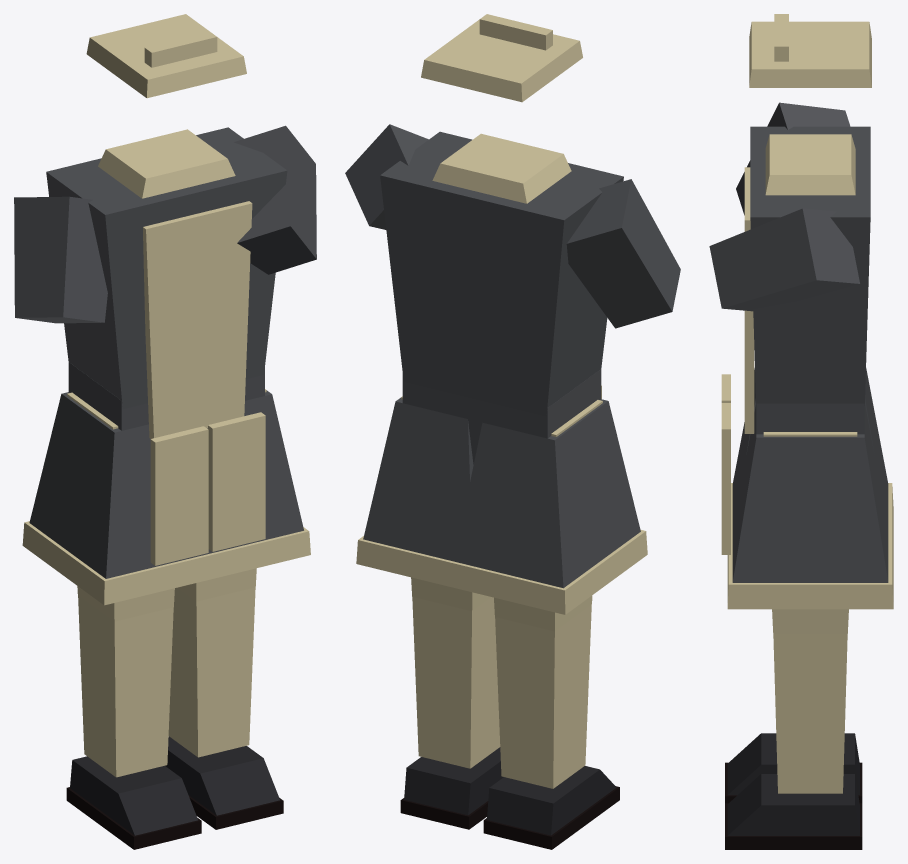
The model's file is gear_body_maid_outfit.glb.
3 views of the same model, side by side, from view 1: azimuth 30°, elevation 25°; view 2: azimuth 150°, elevation 25°; view 3: azimuth 270°, elevation 25° (orthographic).
Visible parts, largest first — view 1: torso, skirt_r, leg_r_lower, leg_l_lower, skirt_l, arm_r, head, arm_l, leg_r, leg_l; view 2: torso, skirt_r, leg_r_lower, leg_l_lower, skirt_l, arm_r, head, arm_l, leg_r, leg_l; view 3: torso, skirt_l, leg_l_lower, arm_l, head, leg_r_lower, skirt_r, leg_l, arm_r.
Part boxes in pixels (<box>): torso: <box>46,127,287,438</box>; skirt_r: <box>22,392,220,605</box>; leg_r_lower: <box>66,595,201,849</box>; leg_l_lower: <box>165,587,283,829</box>; skirt_l: <box>194,390,310,576</box>; arm_r: <box>14,196,107,323</box>; head: <box>86,14,246,98</box>; arm_l: <box>234,125,316,274</box>; leg_r: <box>67,392,174,621</box>; leg_l: <box>177,389,266,601</box>; torso: <box>380,131,623,464</box>; skirt_r: <box>447,385,647,614</box>; leg_r_lower: <box>483,605,619,849</box>; leg_l_lower: <box>400,596,503,829</box>; skirt_l: <box>356,397,475,592</box>; arm_r: <box>566,179,680,328</box>; head: <box>421,14,582,102</box>; arm_l: <box>345,124,428,229</box>; leg_r: <box>494,400,602,631</box>; leg_l: <box>401,396,490,610</box>; torso: <box>744,126,870,434</box>; skirt_l: <box>721,403,893,609</box>; leg_l_lower: <box>725,634,862,849</box>; arm_l: <box>709,208,859,311</box>; head: <box>749,14,871,87</box>; leg_r_lower: <box>725,733,862,803</box>; skirt_r: <box>721,368,893,550</box>; leg_l: <box>763,432,857,634</box>; arm_r: <box>736,102,850,215</box>.
Size of the model in its own units: 0.7632 by 1.79 by 0.3825.
